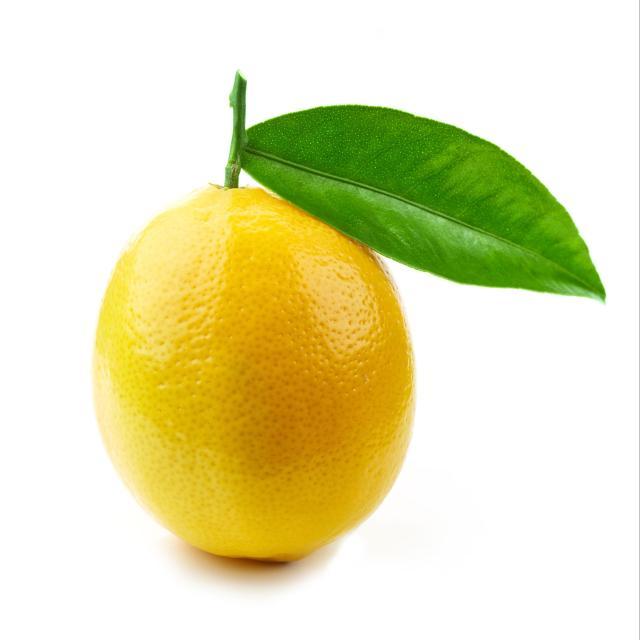lemon: (84, 62, 620, 570)
